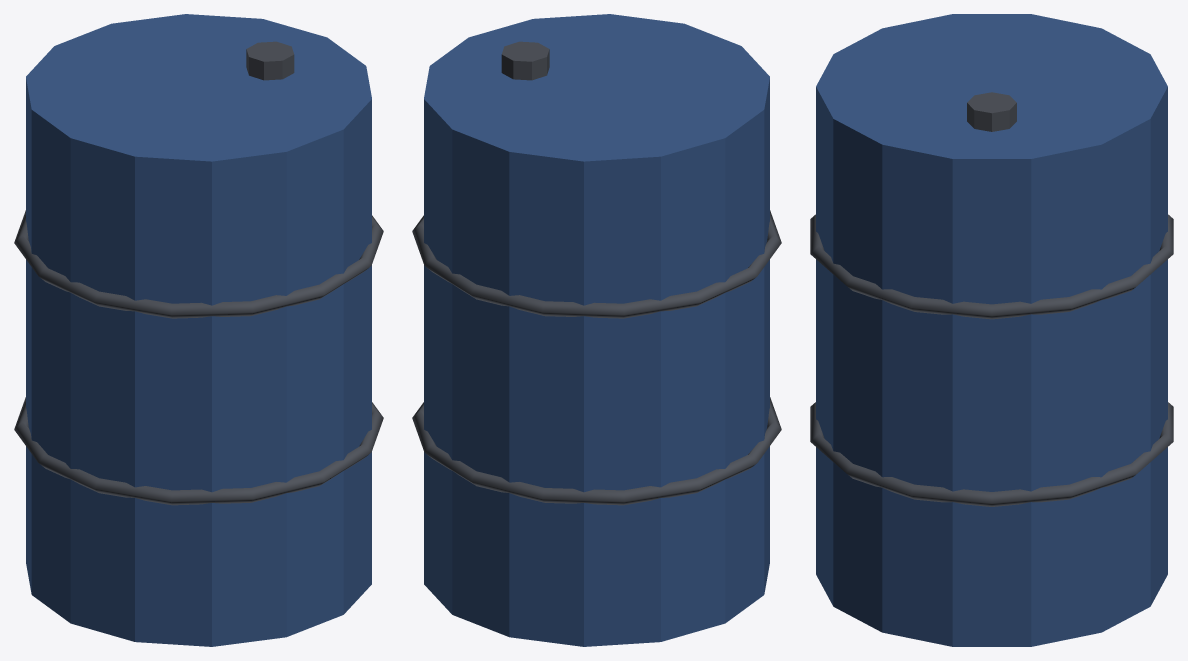
Rendered from Prop_OilDrum.fbx.
3 renders of one model, left to right at view 1: azimuth 30°, elevation 25°; view 2: azimuth 150°, elevation 25°; view 3: azimuth 270°, elevation 25°, orthographic.
Visible parts, largest first — view 1: Prop_OilDrum; view 2: Prop_OilDrum; view 3: Prop_OilDrum.
Part boxes in pixels (x1,y1,x2,y2): Prop_OilDrum: (14,14,383,646); Prop_OilDrum: (412,14,781,646); Prop_OilDrum: (810,14,1173,646).
Size of the model in its own units: 0.18 by 0.27 by 0.1755.
